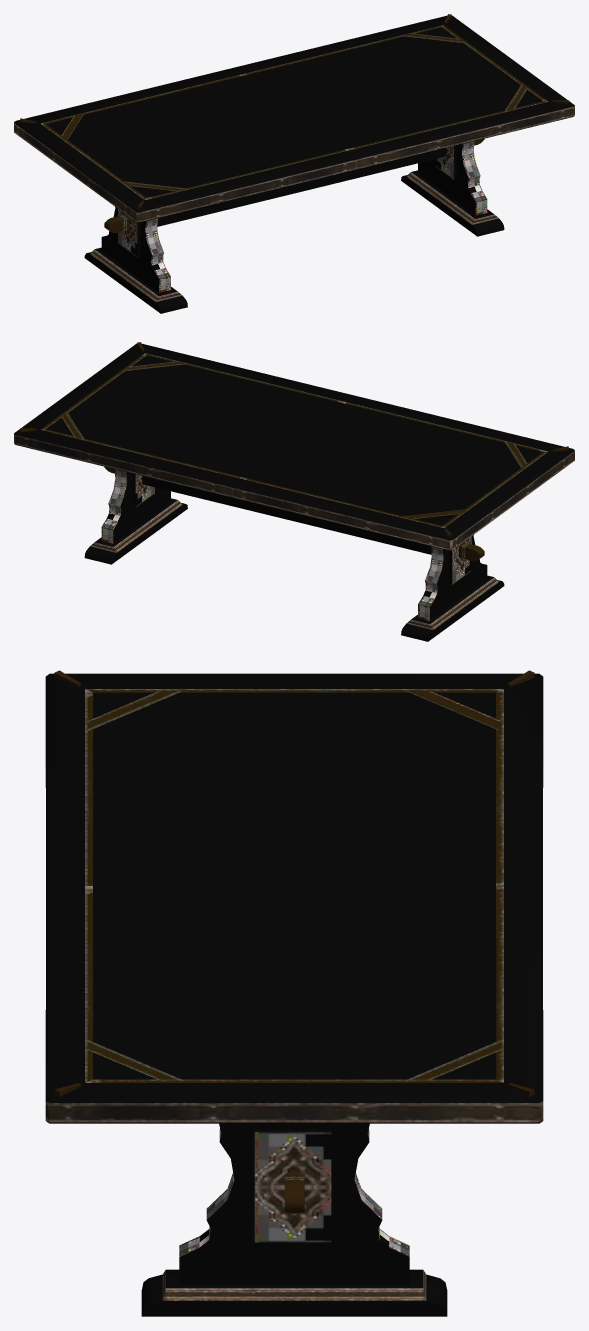
File: o_mdl_env_propFurnitureTableFancyA-transformed.glb
The picture shows the model from 3 angles, top to bottom: view 1: azimuth 30°, elevation 25°; view 2: azimuth 150°, elevation 25°; view 3: azimuth 270°, elevation 25°; orthographic projection. The views are drawn at different scales.
Parts seen in each view (by area): view 1: default; view 2: default; view 3: default.
Part boxes in pixels (left/top/right/bottom): default: left=14, top=14, right=574, bottom=313; default: left=14, top=342, right=574, bottom=641; default: left=45, top=670, right=543, bottom=1316.
Bounding box in the file's own units: 3.16 × 0.9213 × 1.55.
Materials: 1 (1 with a texture image).
